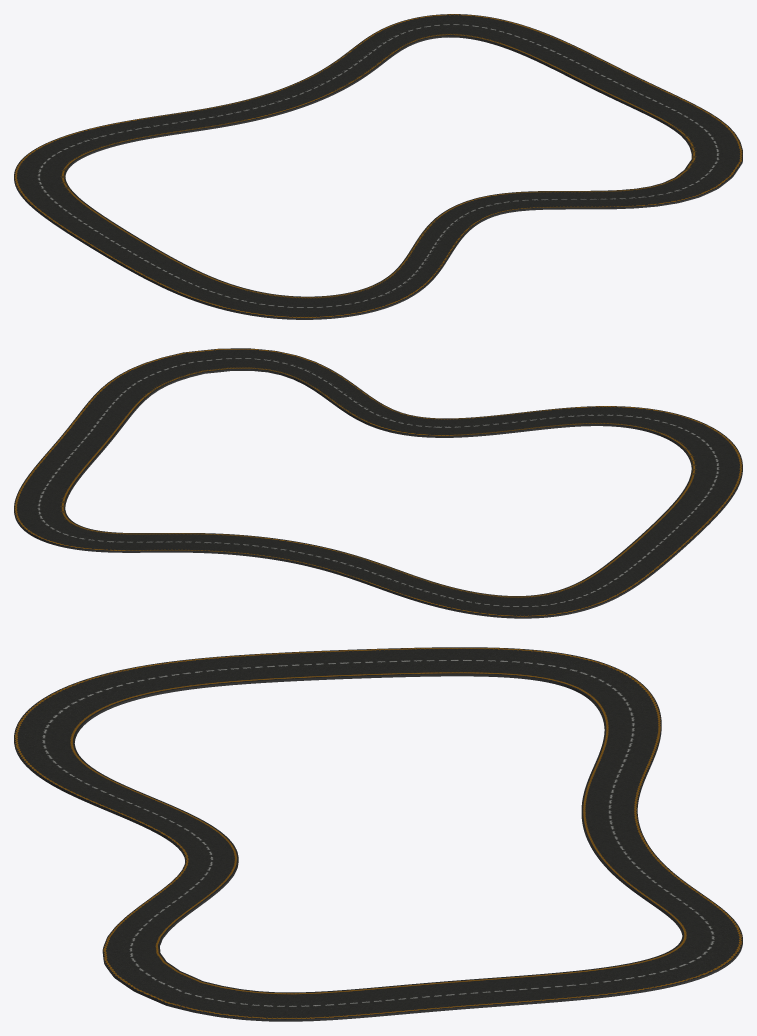
Rendered from RoadTrack.fbx.
The picture shows the model from 3 angles, top to bottom: view 1: azimuth 30°, elevation 25°; view 2: azimuth 150°, elevation 25°; view 3: azimuth 270°, elevation 25°; orthographic projection. The views are drawn at different scales.
Visible parts, largest first — view 1: Cube; view 2: Cube; view 3: Cube.
Boxes of the visible parts, box(x1,y1,x2,y2) form: Cube: box(14, 14, 742, 319); Cube: box(14, 348, 742, 618); Cube: box(14, 647, 742, 1021).
Size of the model in its own units: 12667 by 34.67 by 10481.
2 materials, 1 textured.
